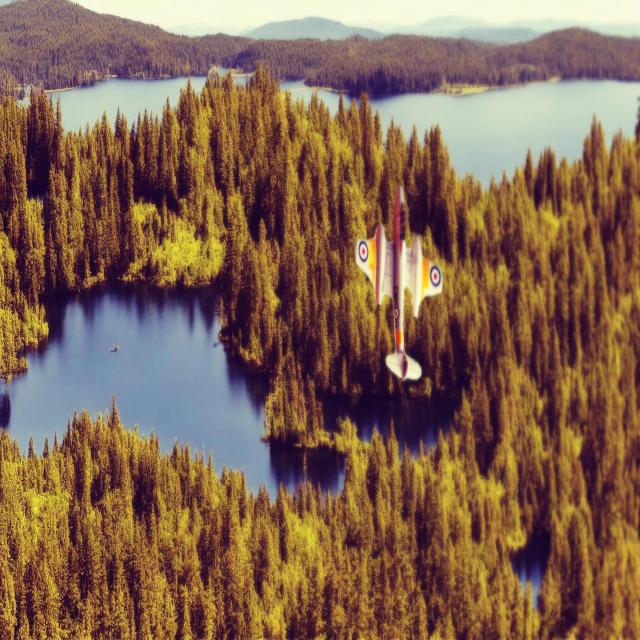airplane: (354, 183, 442, 383)
